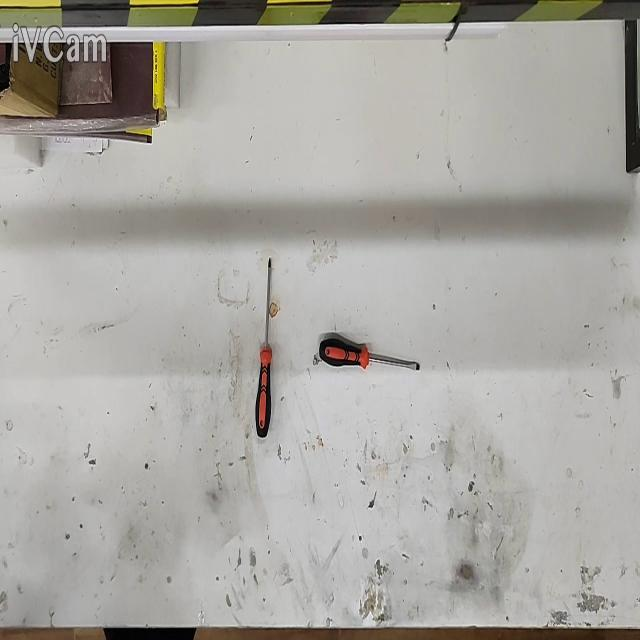Screwdriver: (319, 338, 420, 371), (255, 258, 272, 438)
